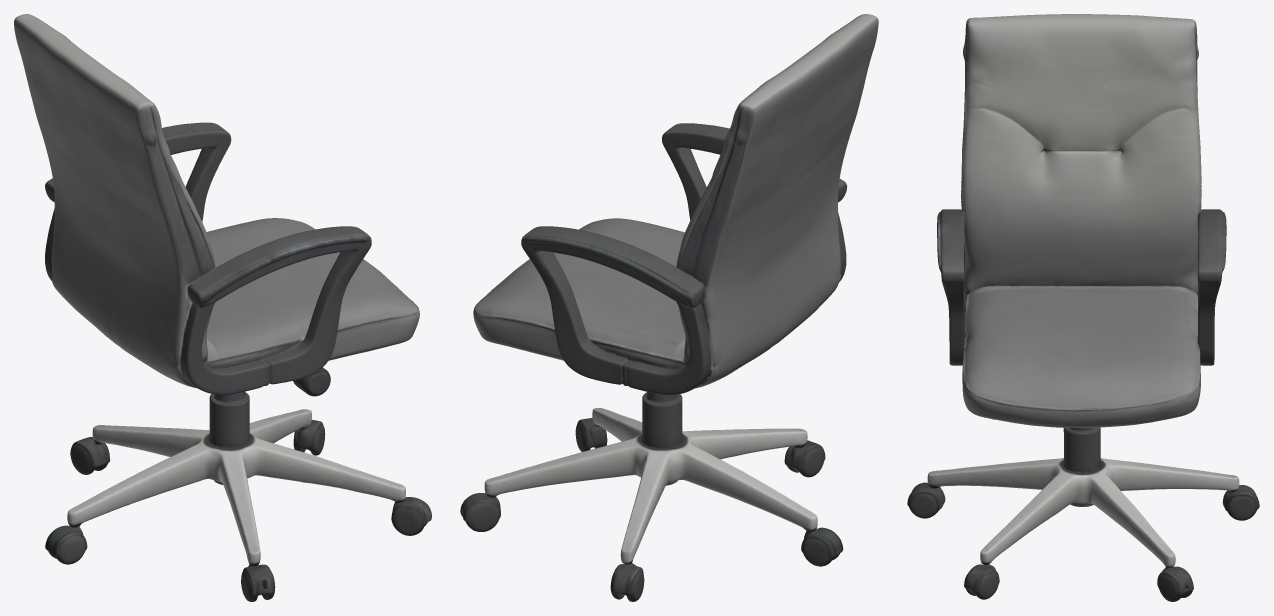
Rendered from modern_office_chair_padded_03.glb.
The picture shows the model from 3 angles, left to right: view 1: azimuth 30°, elevation 25°; view 2: azimuth 150°, elevation 25°; view 3: azimuth 270°, elevation 25°; orthographic projection. The views are drawn at different scales.
Visible parts, largest first — view 1: tripo_node_6f1481da-5c3e-45c2-8898-7165014ce3ae; view 2: tripo_node_6f1481da-5c3e-45c2-8898-7165014ce3ae; view 3: tripo_node_6f1481da-5c3e-45c2-8898-7165014ce3ae.
Part boxes in pixels (bbox=[...]): tripo_node_6f1481da-5c3e-45c2-8898-7165014ce3ae: bbox=[14, 14, 431, 601]; tripo_node_6f1481da-5c3e-45c2-8898-7165014ce3ae: bbox=[460, 14, 878, 601]; tripo_node_6f1481da-5c3e-45c2-8898-7165014ce3ae: bbox=[907, 14, 1259, 601].
Size of the model in its own units: 0.6813 by 1 by 0.6966.
1 material, 1 textured.
